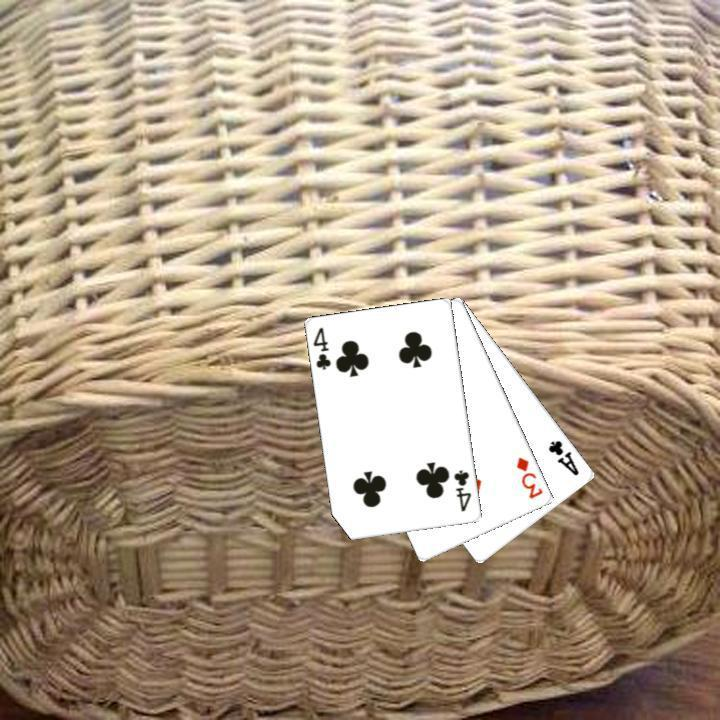3: (512, 453, 545, 501)
4: (309, 323, 333, 372), (450, 466, 474, 514)
A: (544, 436, 581, 478)
